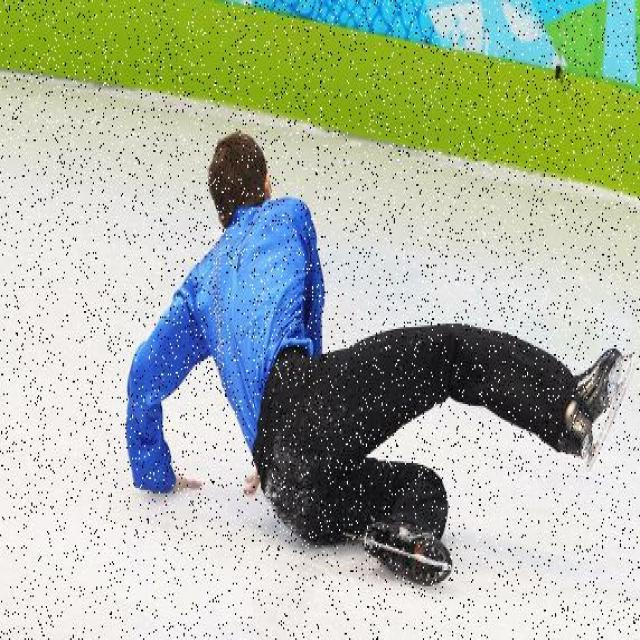fall: (124, 148, 616, 534)
